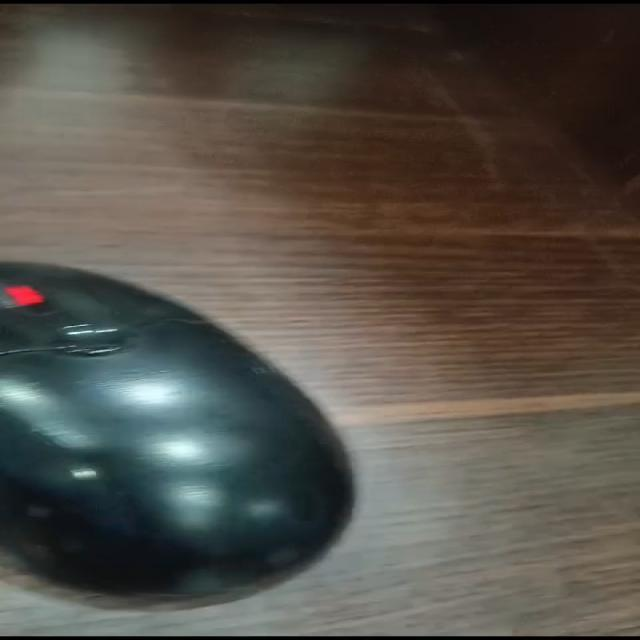Mouse: (0, 204, 465, 618)
